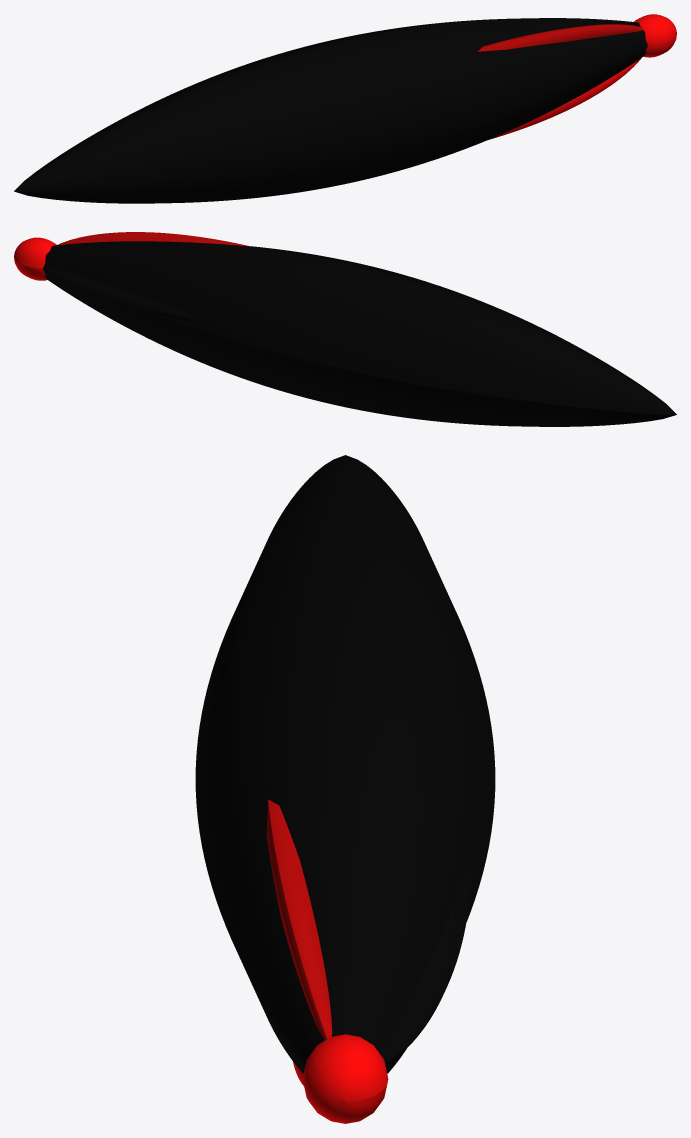
The model's file is SM_DBA_DirectedMissile_V1.fbx.
3 views of the same model, one above another, from view 1: azimuth 30°, elevation 25°; view 2: azimuth 150°, elevation 25°; view 3: azimuth 270°, elevation 25° (orthographic). The views are drawn at different scales.
Parts seen in each view (by area): view 1: SM_DBA_DirectedMissile_V1; view 2: SM_DBA_DirectedMissile_V1; view 3: SM_DBA_DirectedMissile_V1.
Part boxes in pixels (box(x1,y1,x2,y2)): SM_DBA_DirectedMissile_V1: box(14, 14, 676, 203); SM_DBA_DirectedMissile_V1: box(14, 232, 676, 426); SM_DBA_DirectedMissile_V1: box(195, 455, 495, 1123).
Size of the model in its own units: 542 by 107 by 107.
